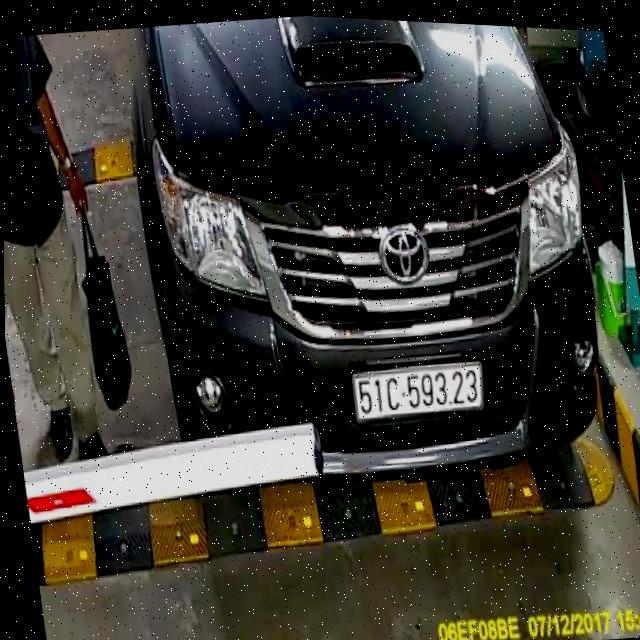car: (116, 6, 624, 523)
plate: (339, 351, 493, 432)
